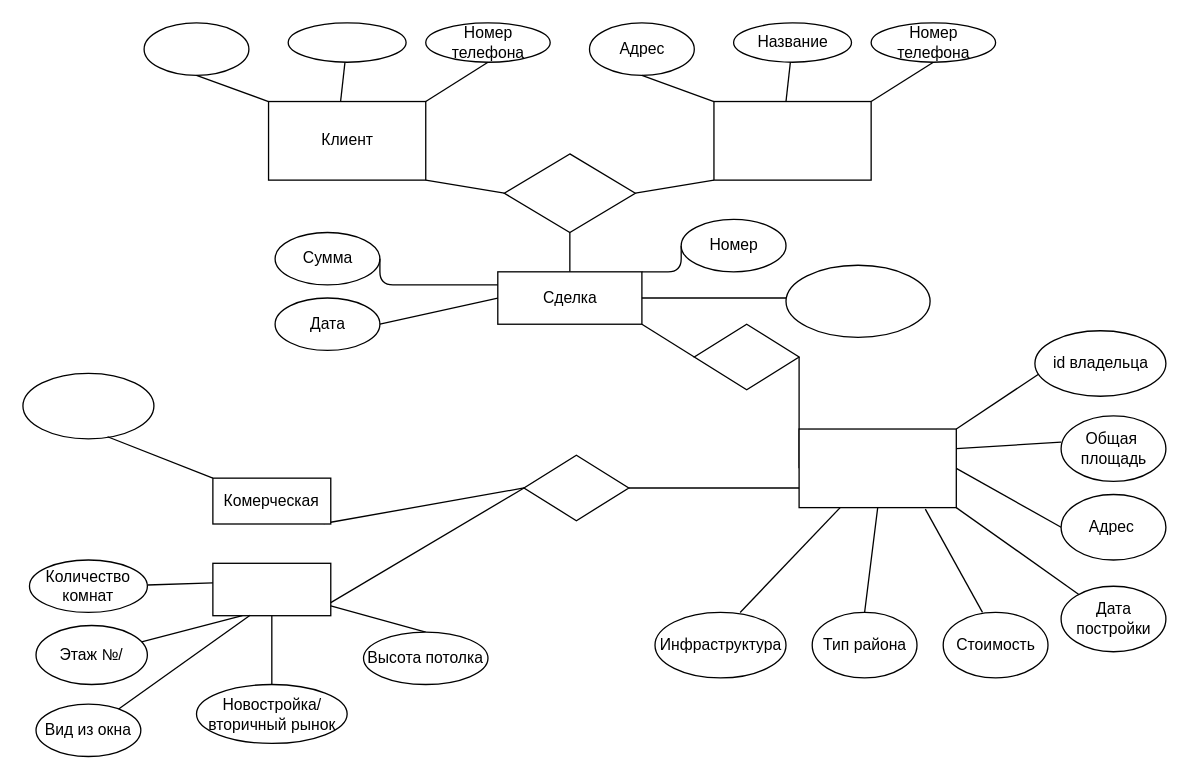
Image size: 1189x779. Some labels were removed from this diagram. The centre of each missing label's shape, as x and y in pixels:
"ID" belongs at point (196, 48).
"Агенство недвижимости" belongs at point (792, 140).
"Жилая" belongs at point (271, 589).
"Может быть" belongs at point (576, 487).
"Недвижимость" belongs at point (877, 468).
"Совершают" belongs at point (569, 193).
"Тип (покупка, аренда)" belongs at point (857, 300).
"Тип/назначение" belongs at point (88, 405).
"ФИО" belongs at point (346, 42).
